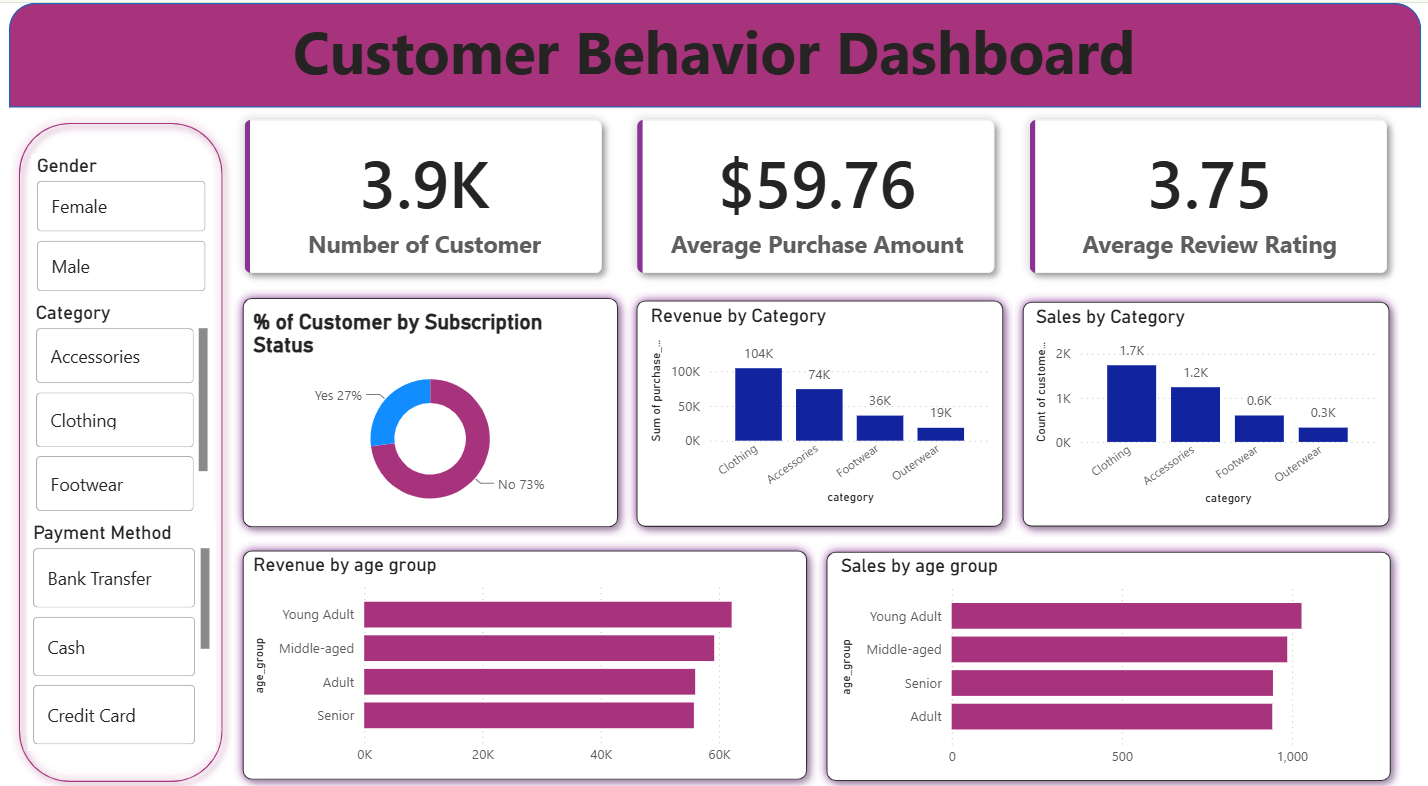

What the dashboard file says about the page in this screenshot:
{"tool":"powerbi","page":{"name":"Page 1","canvas":[1280,720],"ordinal":0},"visuals":[{"type":"cardVisual","fields":{"Data":["public customer.Number of Customer","public customer.Average Purchase Amount","public customer.Average Review Rating"]},"box":[184.4,76.6,1096.1,197.4],"z":0},{"type":"shape","box":[0,0,1280.5,94.8],"z":1000},{"type":"textbox","box":[14.3,2.6,1249.4,92.2],"z":2000},{"type":"shape","box":[202.6,258.4,358.4,226],"z":3000},{"type":"donutChart","title":"% of Customer by  Subscription Status","fields":{"Category":["public customer.subscription_status"],"Y":["CountNonNull(public customer.customer_id)"]},"box":[216.9,277.9,331.2,192.2],"z":4000},{"type":"shape","box":[559.7,261,350.6,223.4],"z":5000},{"type":"shape","box":[910.4,262.3,350.6,222.1],"z":6000},{"type":"clusteredColumnChart","title":"Revenue by Category","fields":{"Y":["Sum(public customer.purchase_amount)"],"Category":["public customer.category"]},"box":[576.6,272.7,318.2,185.7],"z":7000},{"type":"clusteredColumnChart","title":"Sales by Category","fields":{"Y":["CountNonNull(public customer.customer_id)"],"Category":["public customer.category"]},"box":[926,274,318.2,185.7],"z":8000},{"type":"shape","box":[0,100,202.6,615.6],"z":9000},{"type":"advancedSlicerVisual","fields":{"Values":["public customer.gender"]},"box":[20.8,137.7,163.6,129.9],"z":10000},{"type":"advancedSlicerVisual","fields":{"Values":["public customer.category"]},"box":[19.5,271.4,166.2,196.1],"z":11000},{"type":"advancedSlicerVisual","fields":{"Values":["public customer.payment_method"]},"box":[16.9,470.1,170.1,207.8],"z":12000},{"type":"shape","box":[202.6,487,529.9,226],"z":13000},{"type":"clusteredBarChart","title":"Revenue by age group","fields":{"Category":["public customer.age_group"],"Y":["Sum(public customer.purchase_amount)"]},"box":[216.9,498.7,496.1,201.3],"z":14000},{"type":"shape","box":[732.5,488.3,529.9,226],"z":15000},{"type":"clusteredBarChart","title":"Sales by age group","fields":{"Category":["public customer.age_group"],"Y":["CountNonNull(public customer.customer_id)"]},"box":[749.4,500,496.1,201.3],"z":15001}]}

Visuals, with their boxes in screenshot pixels (x1, y1, x2, y2), scaled from the page's 1280x720 canvas onto the 1428x786 screenshot:
cardVisual - public customer.Number of Customer x public customer.Average Purchase Amount: <region>206, 84, 1427, 299</region>
shape: <region>0, 0, 1427, 103</region>
textbox: <region>16, 3, 1410, 103</region>
shape: <region>226, 282, 626, 529</region>
"% of Customer by  Subscription Status" donutChart: <region>242, 303, 611, 513</region>
shape: <region>624, 285, 1016, 529</region>
shape: <region>1016, 286, 1407, 529</region>
"Revenue by Category" clusteredColumnChart: <region>643, 298, 998, 500</region>
"Sales by Category" clusteredColumnChart: <region>1033, 299, 1388, 502</region>
shape: <region>0, 109, 226, 781</region>
advancedSlicerVisual - public customer.gender: <region>23, 150, 206, 292</region>
advancedSlicerVisual - public customer.category: <region>22, 296, 207, 510</region>
advancedSlicerVisual - public customer.payment_method: <region>19, 513, 209, 740</region>
shape: <region>226, 532, 817, 778</region>
"Revenue by age group" clusteredBarChart: <region>242, 544, 795, 764</region>
shape: <region>817, 533, 1408, 780</region>
"Sales by age group" clusteredBarChart: <region>836, 546, 1390, 766</region>
